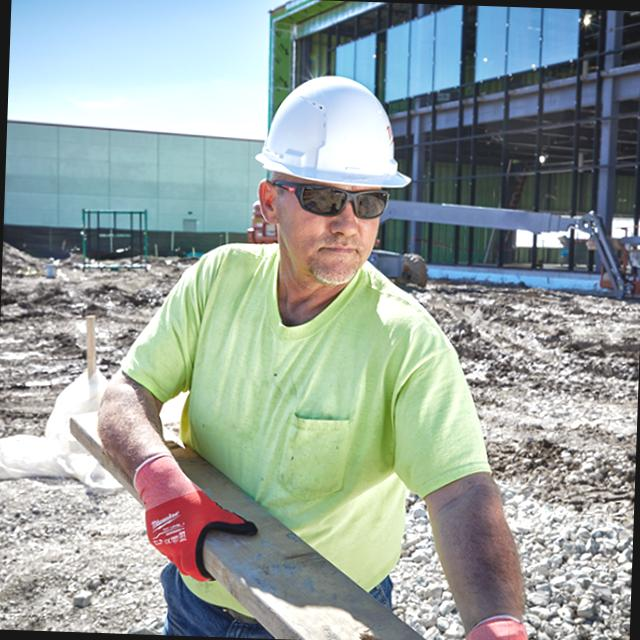goggles: (262, 174, 396, 218)
helmet: (259, 70, 430, 187)
no-vest: (124, 234, 446, 600)
